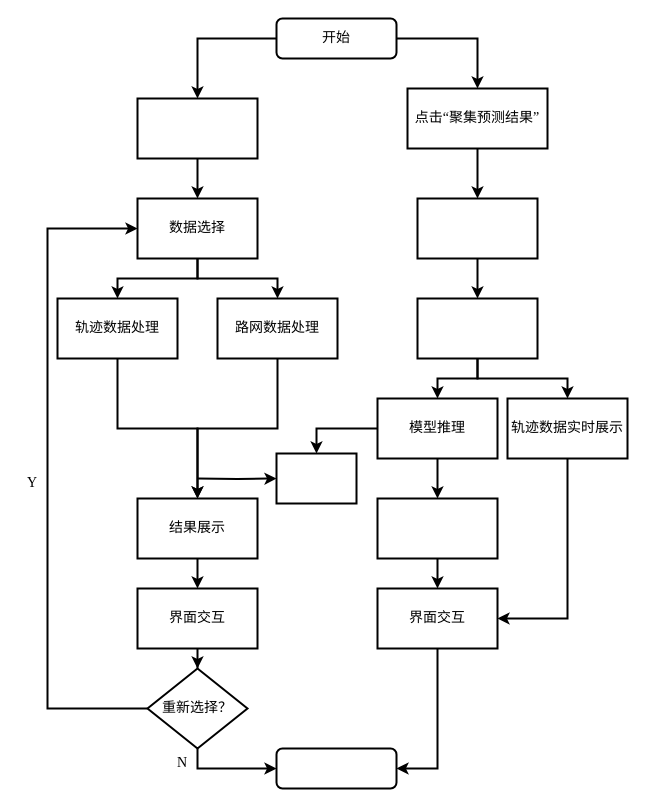
Some shapes in this 645 by 806 pixel diagram are drawn without their labels. The shapes that lost their labels are listed below. From the top down, each one's centre as x and y in pixels, then its label:
At (197,128): "点击“数据展示”".
At (477,228): "数据传输".
At (477,328): "数据处理".
At (316,478): "数据存储".
At (437,528): "推理结果展示".
At (336,768): "结束".
